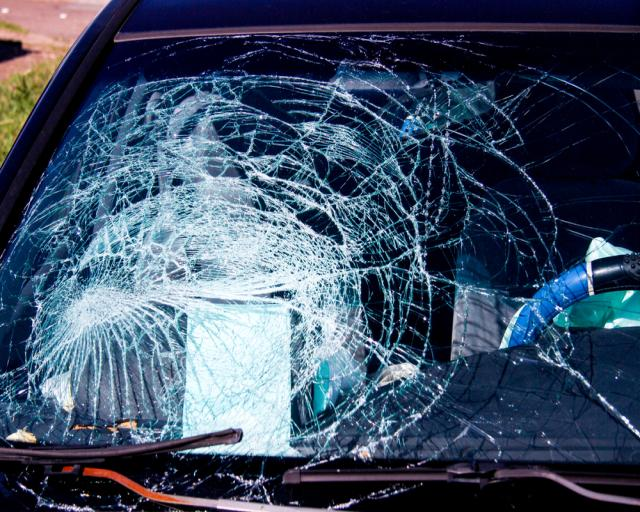glass shatter: (0, 31, 640, 512)
